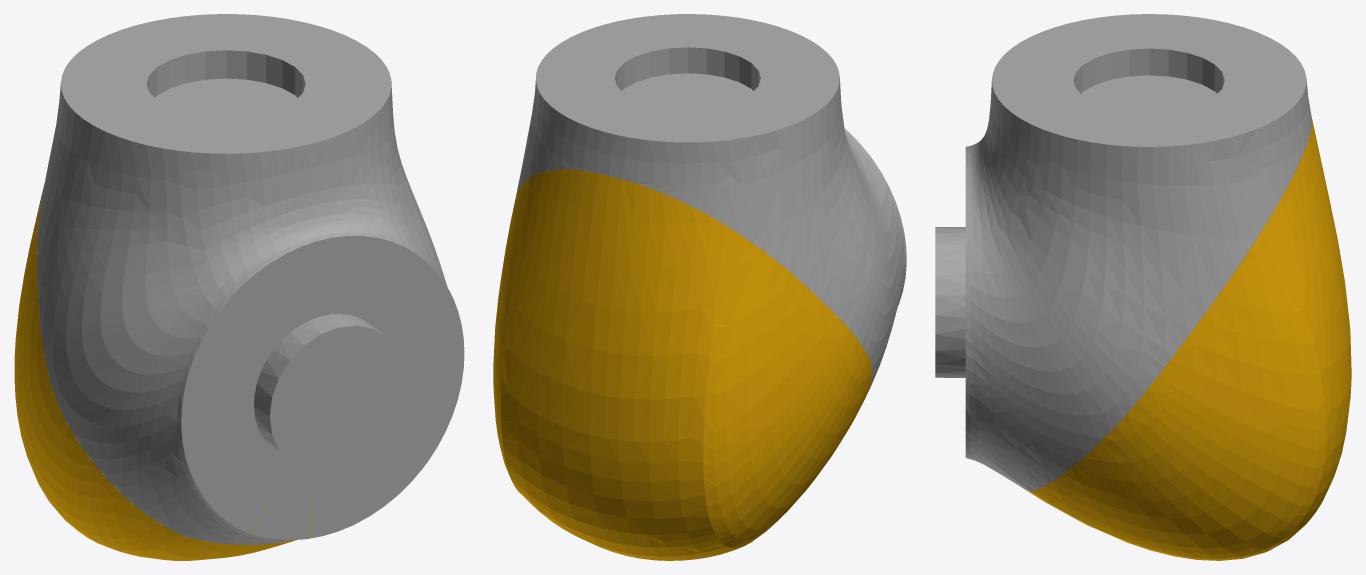
Rendered from iiwa_link_6.glb.
3 views of the same model, side by side, from view 1: azimuth 30°, elevation 25°; view 2: azimuth 150°, elevation 25°; view 3: azimuth 270°, elevation 25° (orthographic). The views are drawn at different scales.
Visible parts, largest first — view 1: ShapeIndexedFaceSet; view 2: ShapeIndexedFaceSet; view 3: ShapeIndexedFaceSet.
Boxes of the visible parts, x1,y1,x2,y2 form: ShapeIndexedFaceSet: (14, 14, 464, 560); ShapeIndexedFaceSet: (493, 14, 906, 560); ShapeIndexedFaceSet: (935, 14, 1351, 560).
Size of the model in its own units: 0.1322 by 0.1673 by 0.1376.
